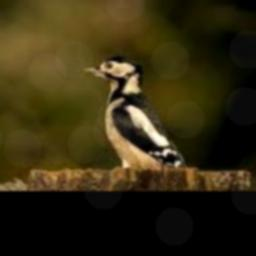Woodpecker: (81, 57, 186, 168)
